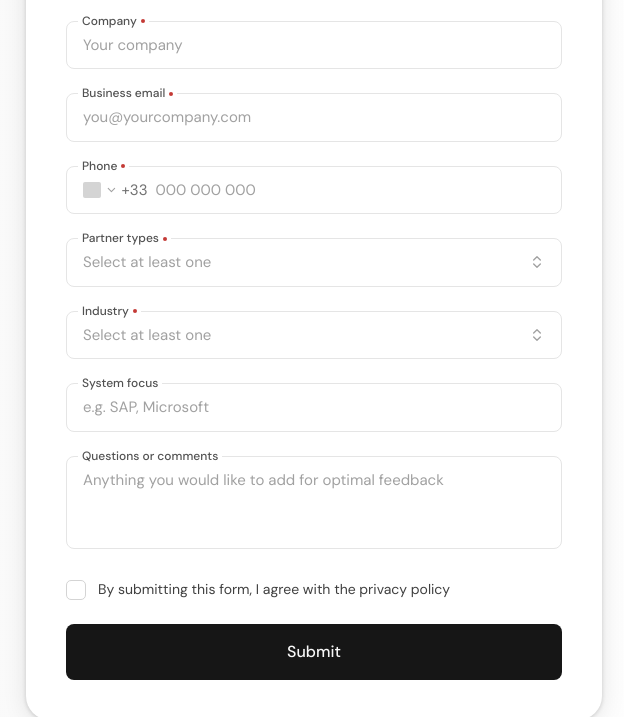
Test case: PartnerForm › shows validation errors and an error toast when submitting empty
(page scrolled)
Click the button "Submit" at (314, 652), box [66,624,562,680]
(page scrolled)
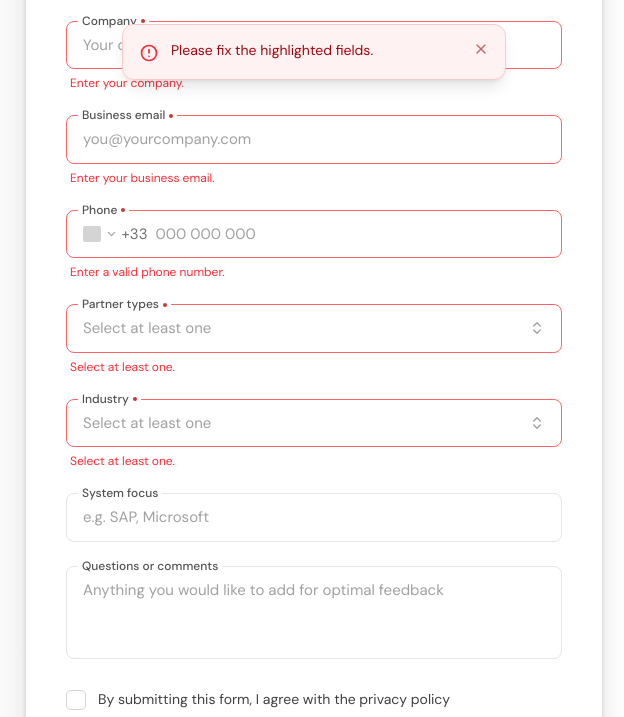
Now the text "Enter your business email." is shown, box [70,170,215,186]
Now the message "Please fix the highlighted fields." is shown, box [122,24,506,80]
